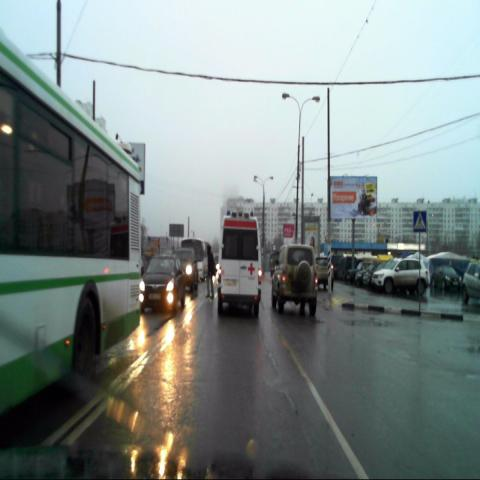5_19_1: (414, 210, 426, 232)
